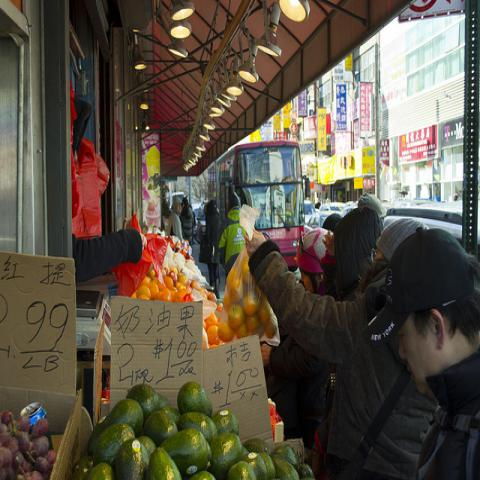bus: (206, 142, 312, 271)
car: (318, 203, 342, 228), (304, 200, 319, 225), (194, 199, 209, 220), (171, 192, 185, 208)
